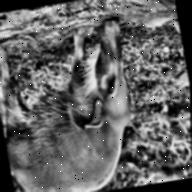boar: (0, 17, 148, 192)
